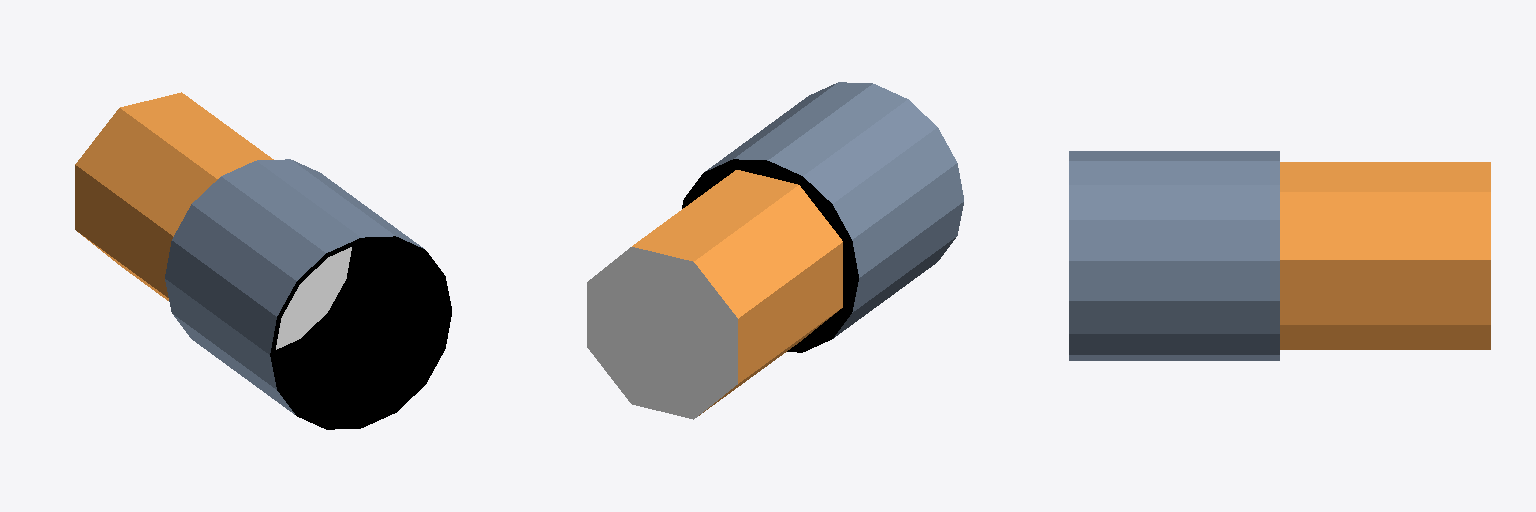
The model's file is Telescope.obj.
The picture shows the model from 3 angles: view 1: azimuth 30°, elevation 25°; view 2: azimuth 150°, elevation 25°; view 3: azimuth 270°, elevation 25°; orthographic projection.
Parts seen in each view (by area): view 1: Observatory; view 2: Observatory; view 3: Observatory.
Boxes of the visible parts, <box> form: Observatory: <box>75,92,451,429</box>; Observatory: <box>587,82,963,419</box>; Observatory: <box>1069,151,1490,360</box>.
Size of the model in its own units: 2 by 2 by 4.